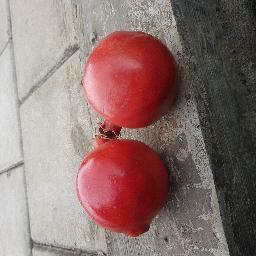Good_pomegranate: (81, 34, 183, 136), (81, 143, 172, 241)
